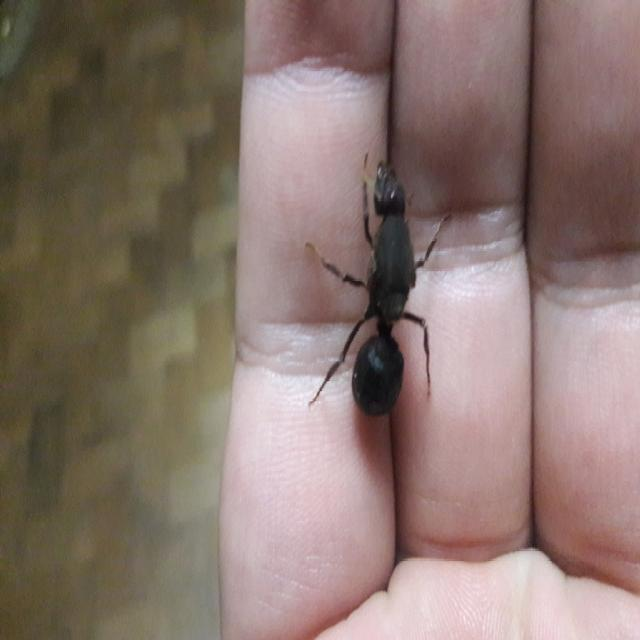Alive-Female-Dealate: (305, 152, 452, 418)
